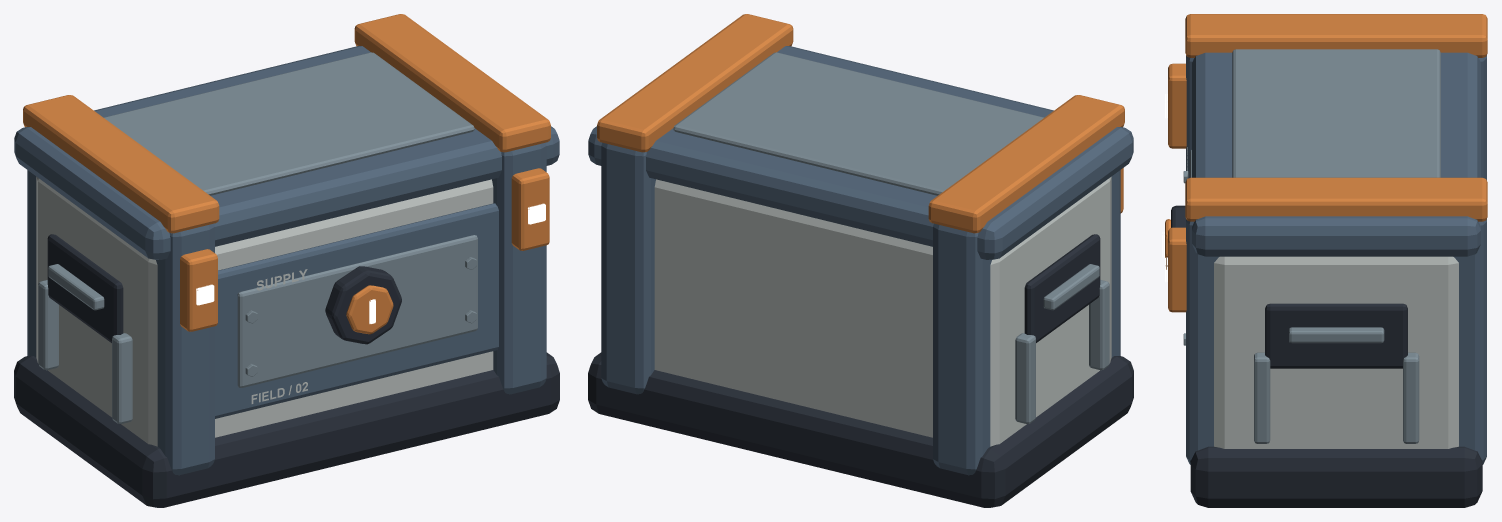
File: supply-crate.glb
3 renders of one model, left to right at view 1: azimuth 30°, elevation 25°; view 2: azimuth 150°, elevation 25°; view 3: azimuth 270°, elevation 25°, orthographic.
Parts seen in each view (by area): view 1: Body, Signal; view 2: Body; view 3: Body.
Part boxes in pixels (bbox=[...]): Body: bbox=[14, 14, 559, 507]; Signal: bbox=[196, 203, 545, 323]; Body: bbox=[588, 14, 1133, 507]; Body: bbox=[1165, 14, 1487, 507].
Size of the model in its own units: 1.7 by 1.13 by 1.09.
